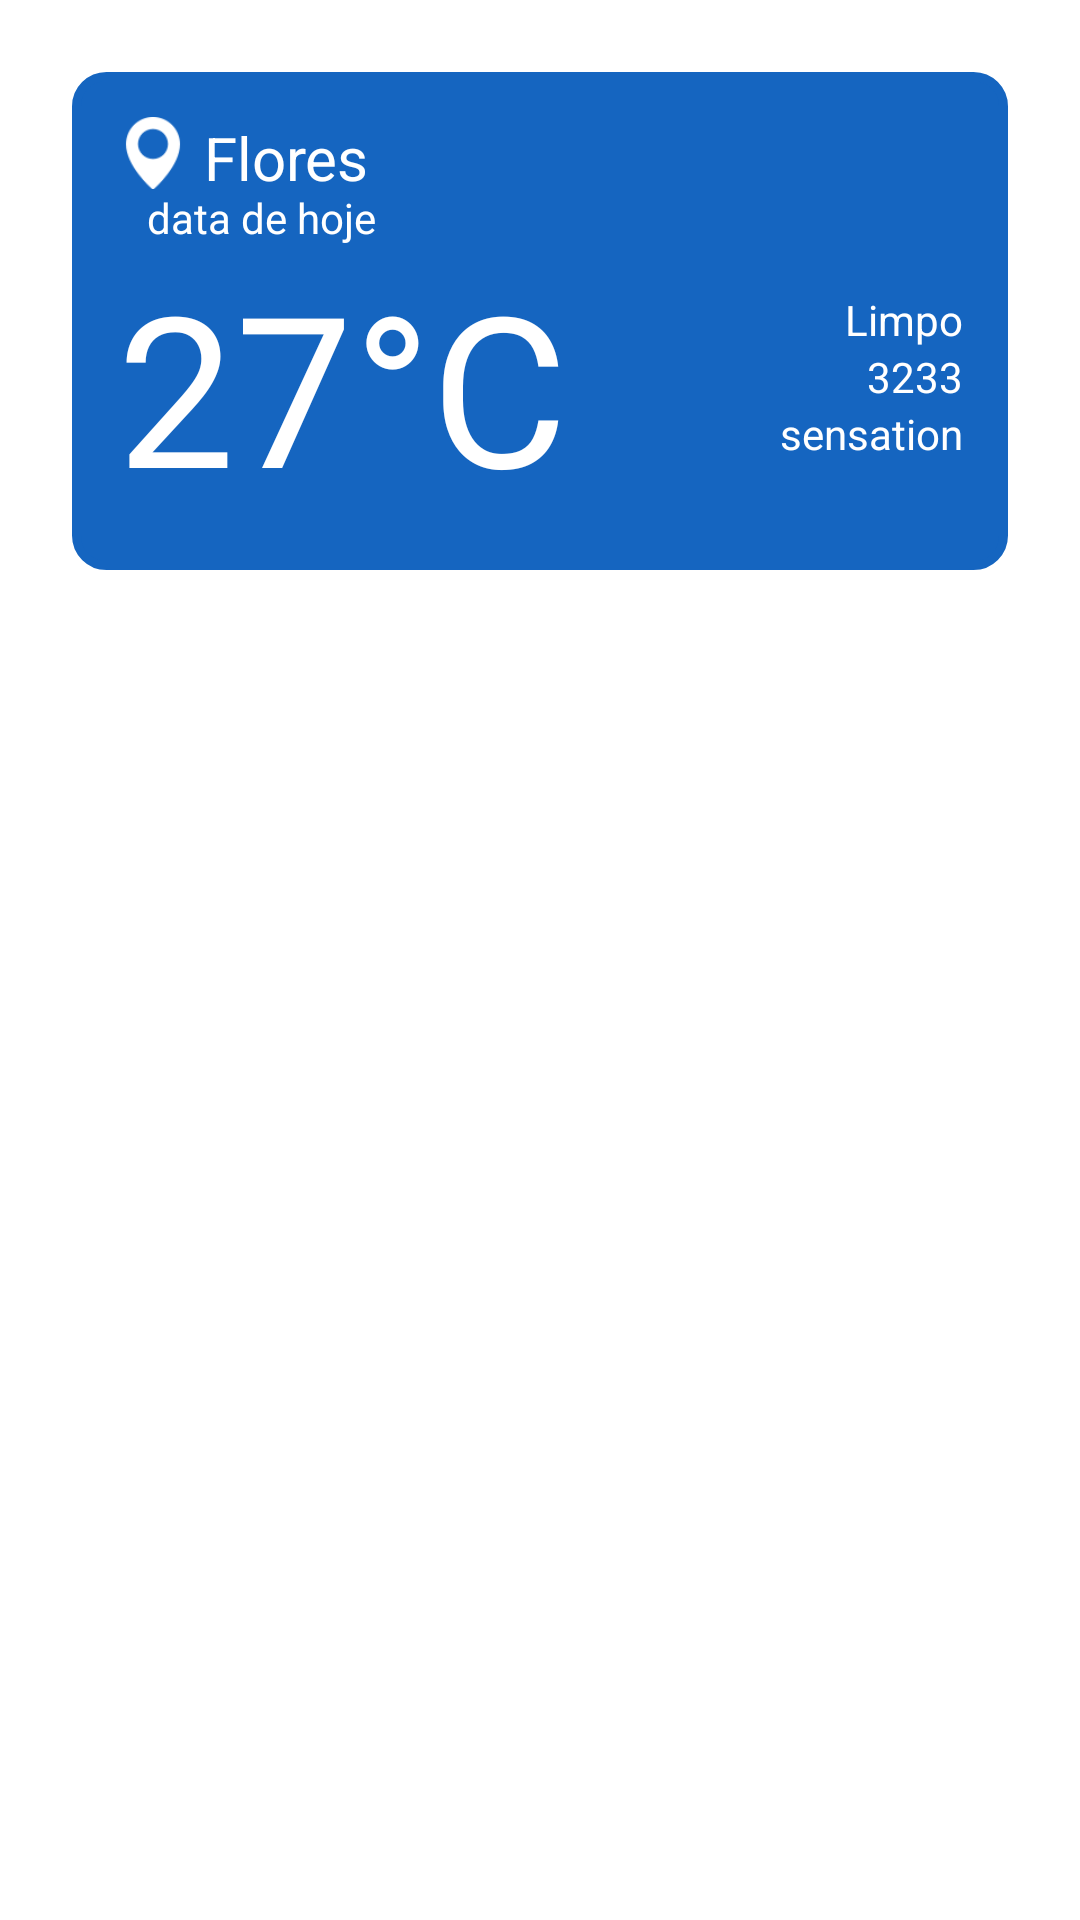

Screen size 1080*1920. Icon name, then its center in pixels as [x,y]:
location: [153,153]
